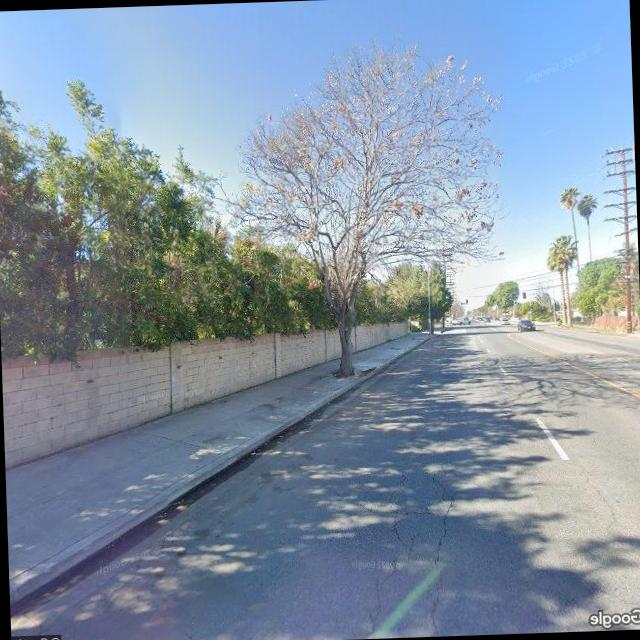crack: (346, 410, 478, 636)
